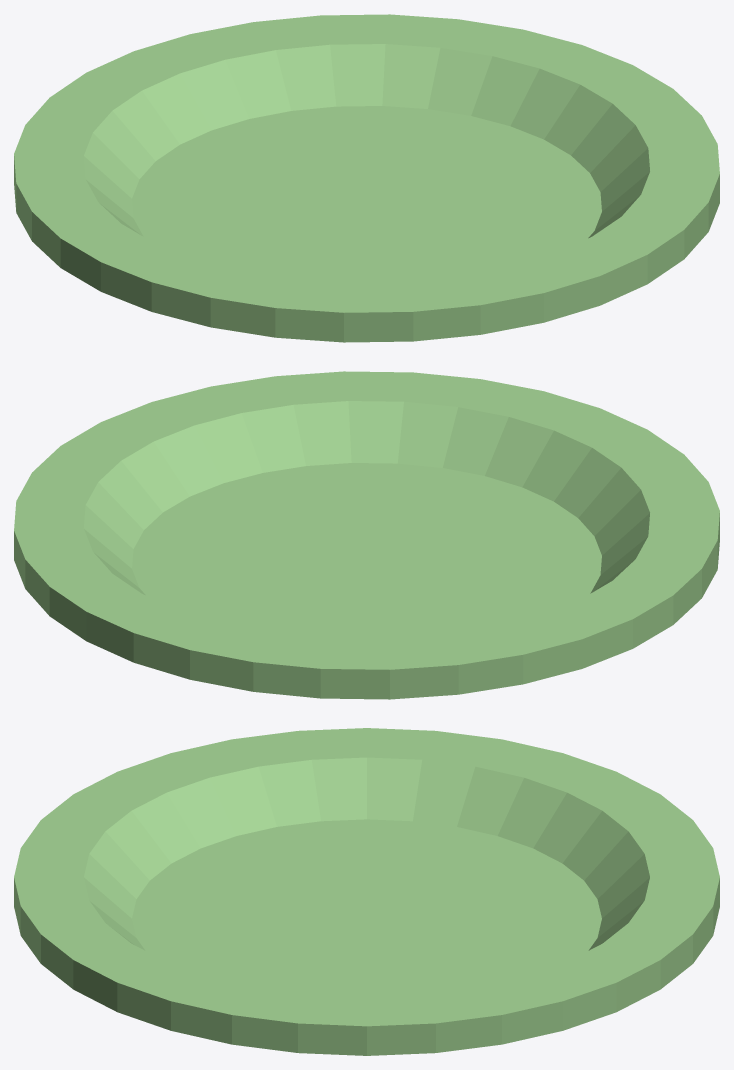
Rendered from Plate.fbx.
The picture shows the model from 3 angles, top to bottom: view 1: azimuth 30°, elevation 25°; view 2: azimuth 150°, elevation 25°; view 3: azimuth 270°, elevation 25°; orthographic projection.
Visible parts, largest first — view 1: Plate; view 2: Plate; view 3: Plate.
Boxes of the visible parts, bbox=[...] form: Plate: bbox=[14, 14, 719, 342]; Plate: bbox=[14, 371, 719, 699]; Plate: bbox=[14, 728, 719, 1055].
Bounding box in the file's own units: 119 × 13.22 × 119.
